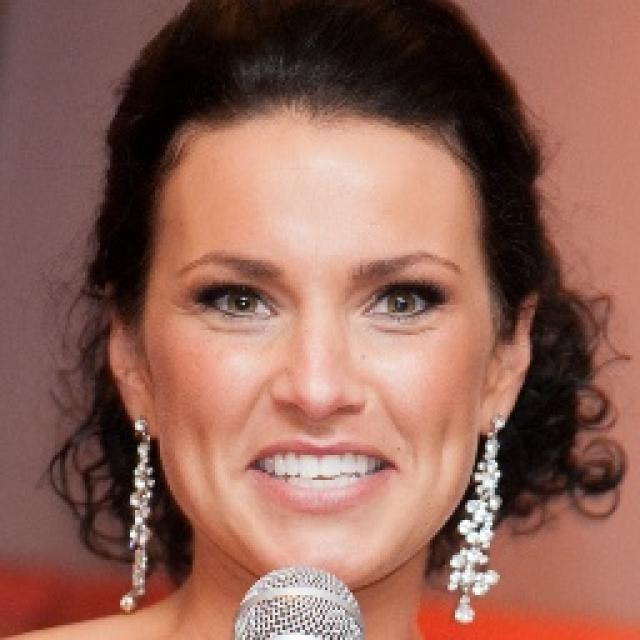earlobe: (481, 290, 540, 436), (107, 281, 155, 445)
